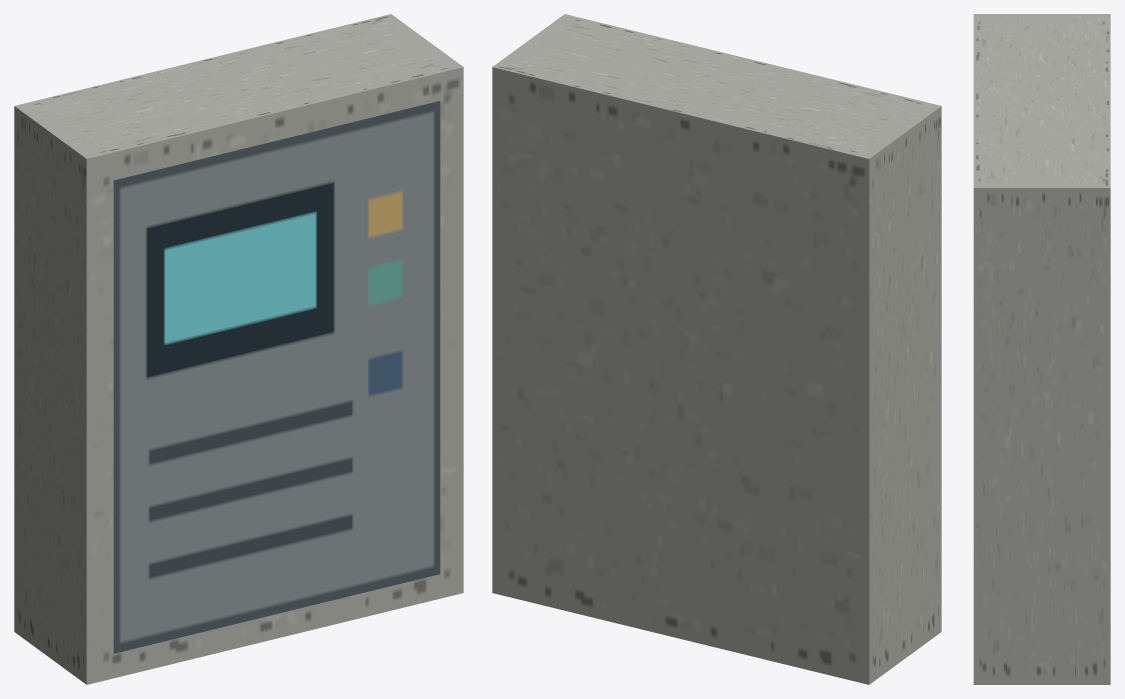
File: InstrumentBox.fbx
3 renders of one model, left to right at view 1: azimuth 30°, elevation 25°; view 2: azimuth 150°, elevation 25°; view 3: azimuth 270°, elevation 25°, orthographic. The views are drawn at different scales.
Visible parts, largest first — view 1: InstrumentBox; view 2: InstrumentBox; view 3: InstrumentBox.
Part boxes in pixels (bbox=[...]): InstrumentBox: bbox=[14, 14, 463, 684]; InstrumentBox: bbox=[492, 14, 941, 684]; InstrumentBox: bbox=[973, 14, 1110, 684].
Size of the model in its own units: 150 by 200 by 51.2.
